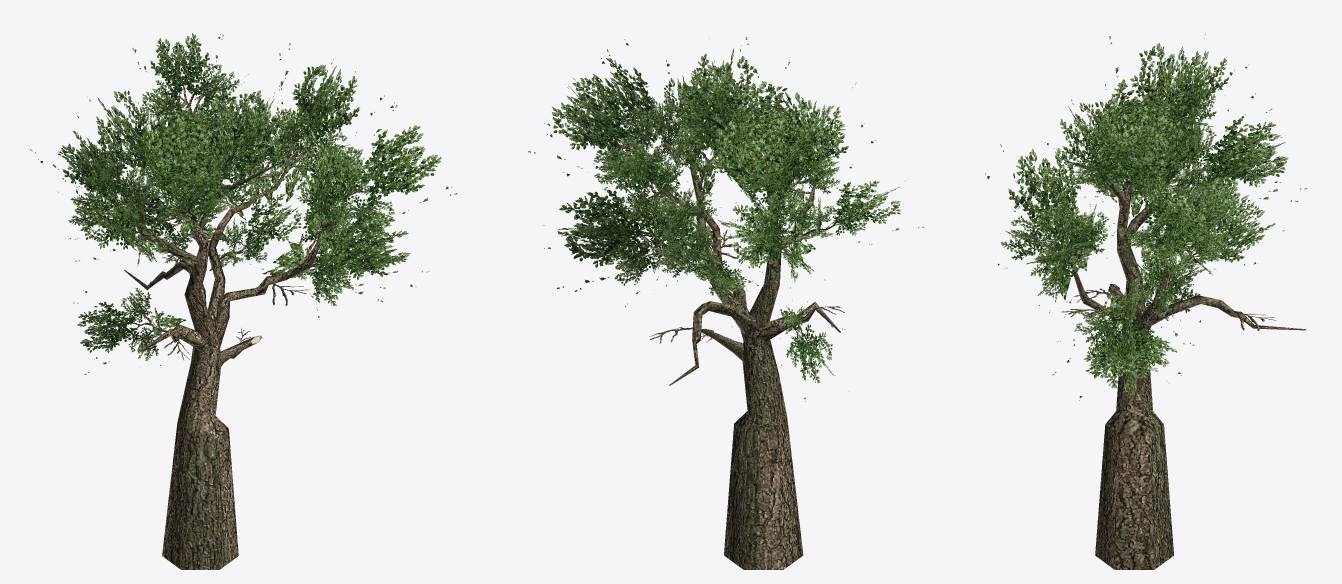
The model's file is roble_f.glb.
3 views of the same model, side by side, from view 1: azimuth 30°, elevation 25°; view 2: azimuth 150°, elevation 25°; view 3: azimuth 270°, elevation 25° (orthographic). The views are drawn at different scales.
Visible parts, largest first — view 1: Copa, Tronco; view 2: Copa, Tronco; view 3: Copa, Tronco.
Part boxes in pixels (x1=…): Copa: x1=30, y1=33, x2=457, y2=374; Tronco: x1=97, y1=83, x2=372, y2=569; Copa: x1=528, y1=37, x2=924, y2=401; Tronco: x1=615, y1=95, x2=850, y2=569; Copa: x1=985, y1=33, x2=1307, y2=430; Tronco: x1=1033, y1=99, x2=1306, y2=569.
Size of the model in its own units: 9.46 by 12 by 7.33.
Materials: 2 (2 with a texture image).
